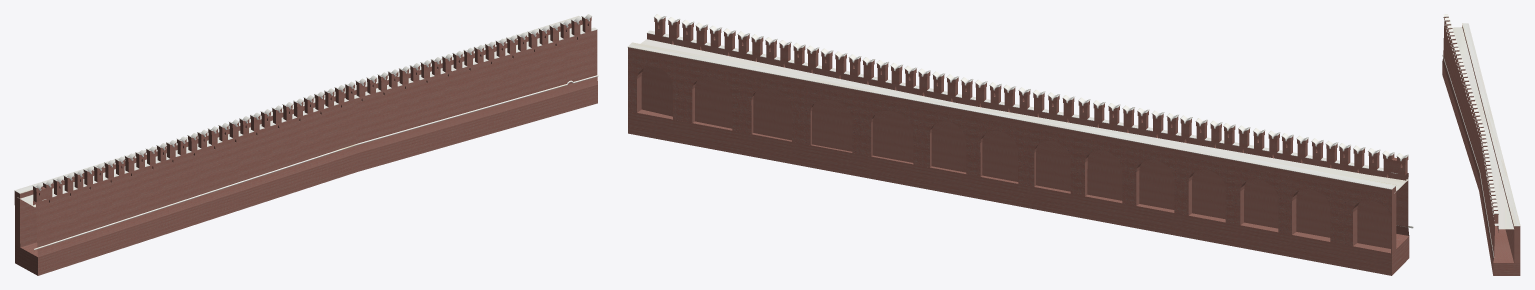
The model's file is 01080_Kremlyovskaya_stena_1.FBX.
3 renders of one model, left to right at view 1: azimuth 30°, elevation 25°; view 2: azimuth 150°, elevation 25°; view 3: azimuth 270°, elevation 25°, orthographic. The views are drawn at different scales.
Visible parts, largest first — view 1: Group_390, Group_396, Group_391, Group_389, Group_377, Group_395, Group_393, Group_386, Group_397, Group_387; view 2: Group_377, Group_396, Group_392, Group_395, Group_393, Group_397, Group_390; view 3: Group_390, Group_397, Group_396, Group_395, Group_377, Group_391, Group_393, Group_389, Group_386, Group_387.
Part boxes in pixels (bbox=[...]): Group_390: bbox=[36, 30, 597, 247]; Group_396: bbox=[15, 85, 597, 275]; Group_391: bbox=[37, 145, 356, 257]; Group_389: bbox=[356, 77, 597, 153]; Group_377: bbox=[14, 196, 36, 247]; Group_395: bbox=[14, 16, 581, 193]; Group_393: bbox=[20, 20, 582, 198]; Group_386: bbox=[34, 144, 356, 250]; Group_397: bbox=[17, 24, 582, 207]; Group_387: bbox=[356, 84, 566, 145]; Group_377: bbox=[628, 53, 1396, 253]; Group_396: bbox=[628, 111, 1409, 275]; Group_392: bbox=[647, 33, 1406, 180]; Group_395: bbox=[627, 42, 1396, 189]; Group_393: bbox=[628, 47, 1391, 195]; Group_397: bbox=[640, 39, 1408, 193]; Group_390: bbox=[1396, 173, 1408, 226]; Group_390: bbox=[1443, 26, 1494, 256]; Group_397: bbox=[1452, 27, 1513, 229]; Group_396: bbox=[1442, 63, 1520, 275]; Group_395: bbox=[1462, 23, 1520, 226]; Group_377: bbox=[1505, 229, 1520, 263]; Group_391: bbox=[1442, 58, 1479, 177]; Group_393: bbox=[1462, 25, 1514, 228]; Group_389: bbox=[1479, 174, 1493, 262]; Group_386: bbox=[1442, 55, 1479, 172]; Group_387: bbox=[1479, 172, 1492, 245].
Bounding box in the file's own units: 97.29 × 13.51 × 15.87.
Materials: 6 (6 with a texture image).
